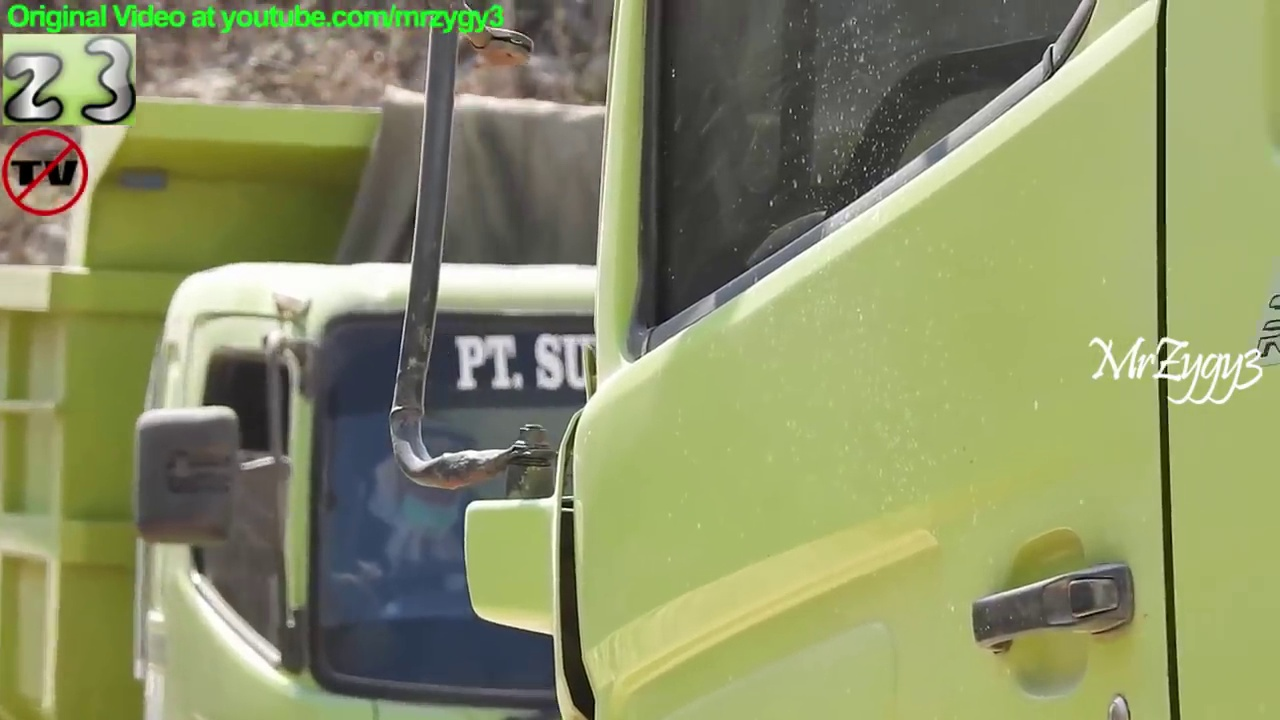truck: (1, 80, 1168, 720), (367, 1, 1280, 719)
